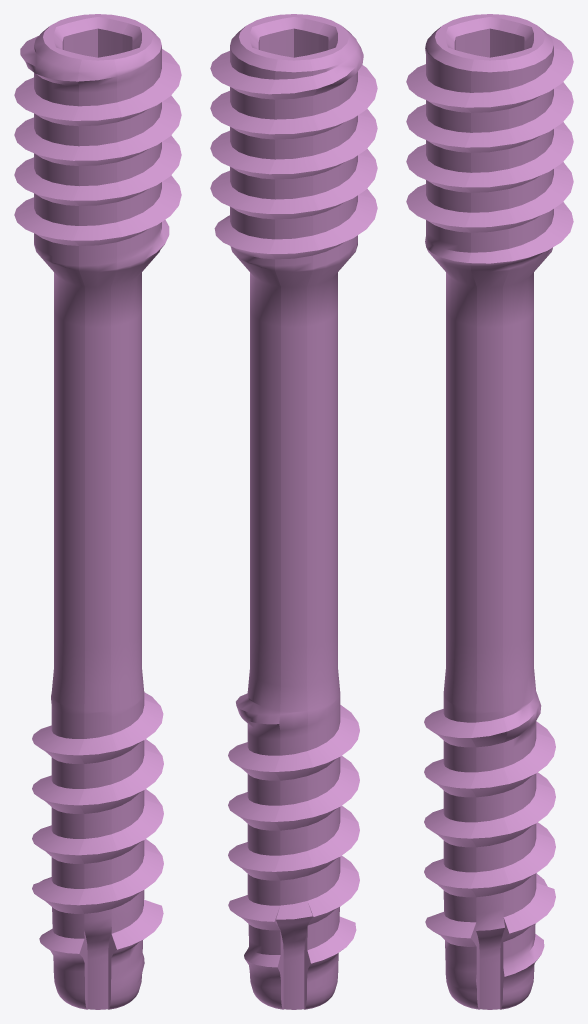
Rendered from os36_herbert_3x24_lod1.glb.
The picture shows the model from 3 angles, left to right: view 1: azimuth 30°, elevation 25°; view 2: azimuth 150°, elevation 25°; view 3: azimuth 270°, elevation 25°; orthographic projection.
Visible parts, largest first — view 1: os36_herbert_3x24; view 2: os36_herbert_3x24; view 3: os36_herbert_3x24.
Boxes of the visible parts, x1,y1,x2,y2 form: os36_herbert_3x24: [14, 14, 181, 1009]; os36_herbert_3x24: [210, 14, 377, 1009]; os36_herbert_3x24: [406, 14, 573, 1009].
Bounding box in the file's own units: 0.0038 × 0.024 × 0.0038.
